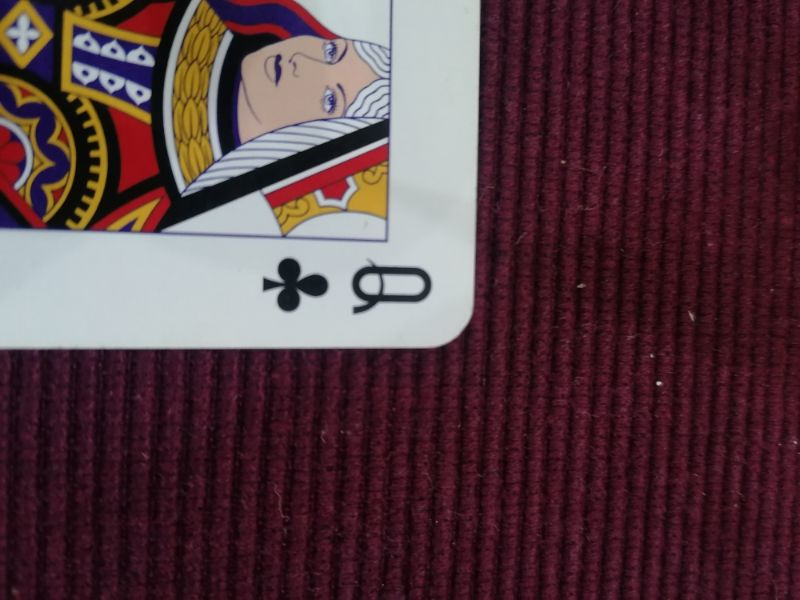Qc: (258, 254, 437, 318)
